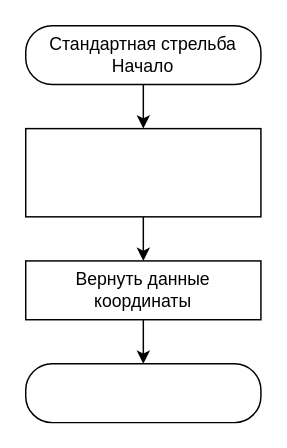
This 287x448 diagram has some shape labels left out. Each missing label, with the centre of its shape:
"Получить координаты выстрела из шаблона" goes at pixel 142 172.
"Стандартная стрельба Конец" goes at pixel 142 392.
